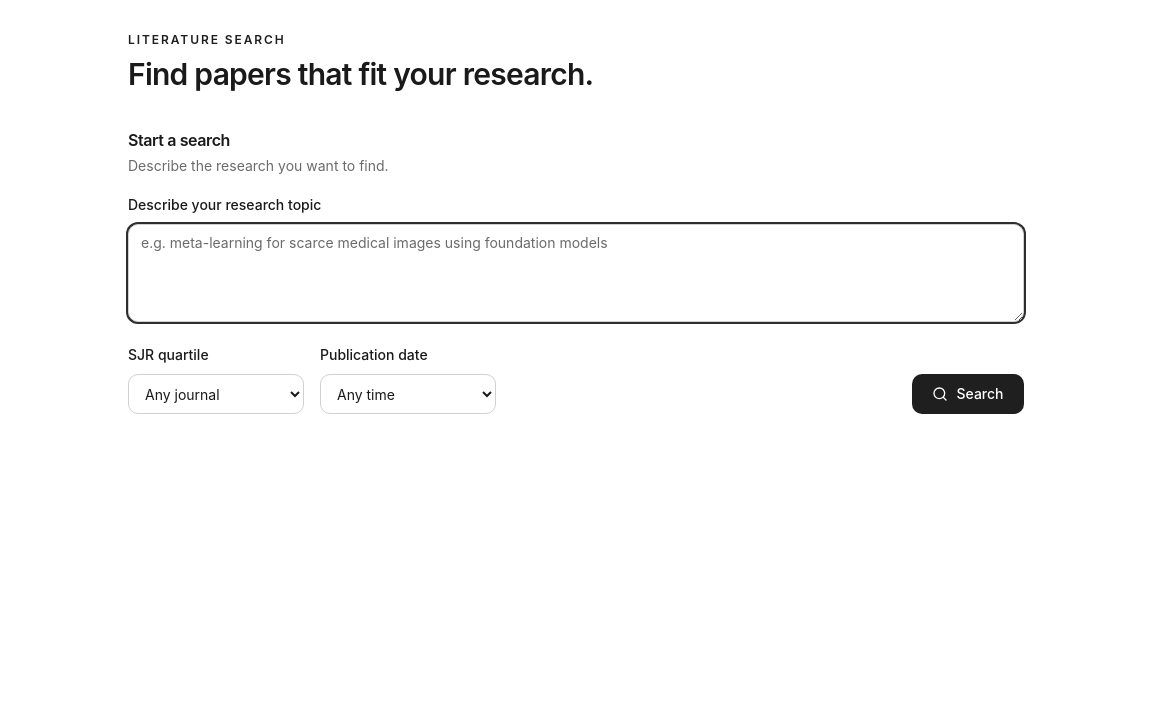
it: App › offers SJR quartile choices and submits the selected quality mode
Type "climate adaptation strategies for resilient cities under increasingly severe weather events" into the text box labelled "Describe your research topic". click: (576, 273)
box: x1=128 y1=224 x2=1024 y2=322
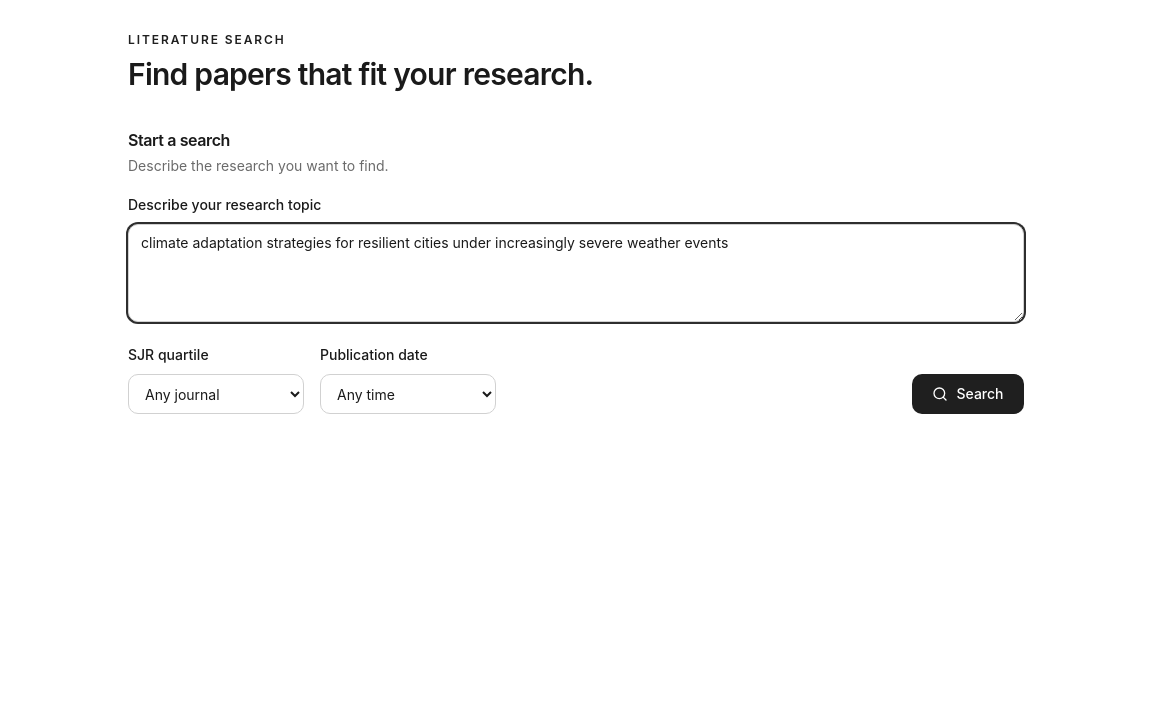
Select "Q1" in the dropdown labelled "SJR quartile". click: (216, 394)
box: x1=128 y1=374 x2=304 y2=414
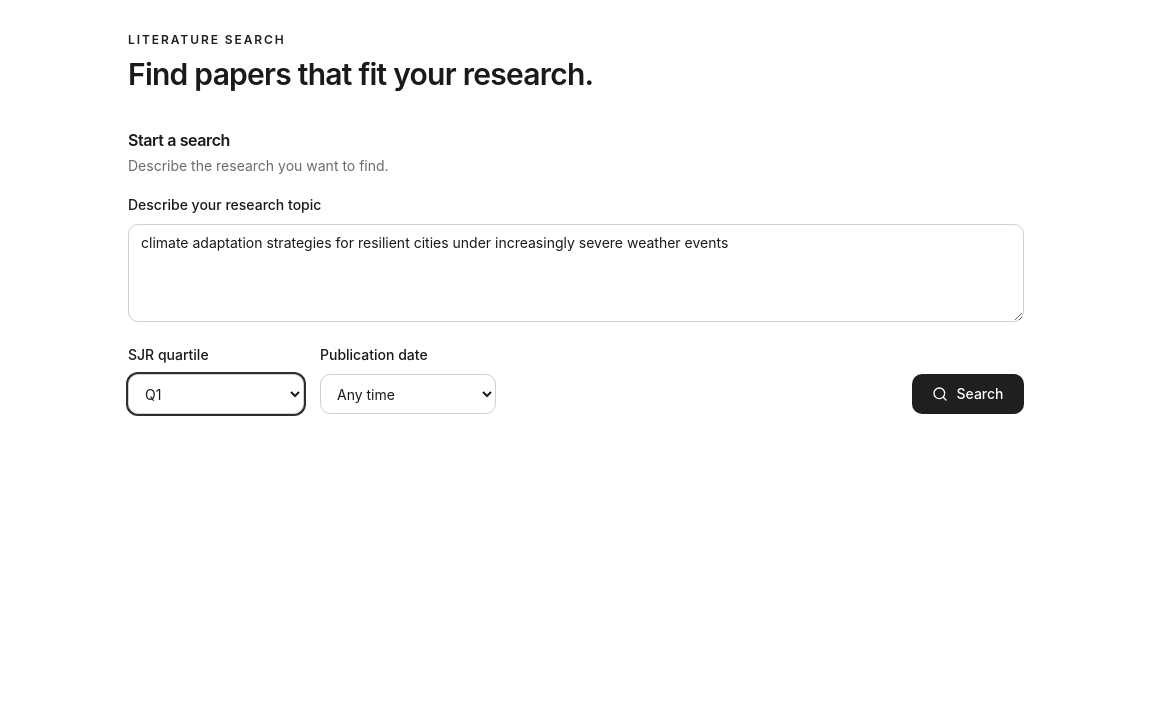
Click the button "Search". click: (968, 394)
box: x1=912 y1=374 x2=1024 y2=414
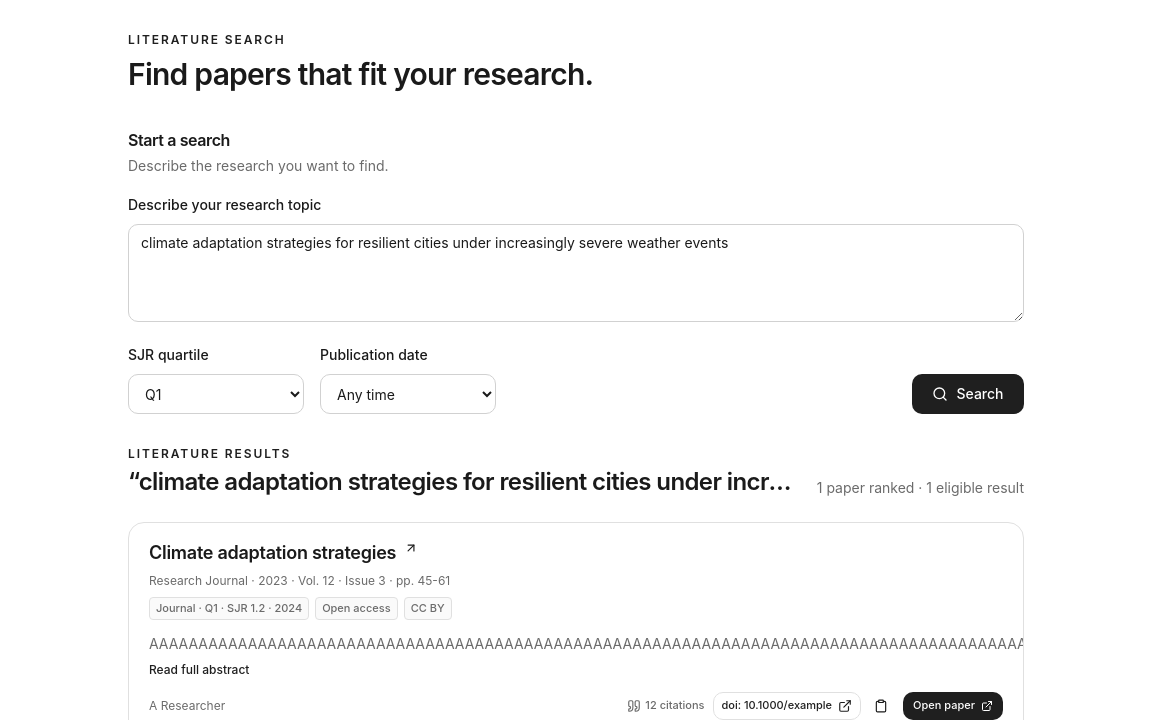
Expected: the heading "Climate adaptation strategies" is shown, x1=149 y1=541 x2=418 y2=563
Expected: the text "Journal · Q1 · SJR 1.2 · 2024" is shown, x1=149 y1=597 x2=309 y2=620
